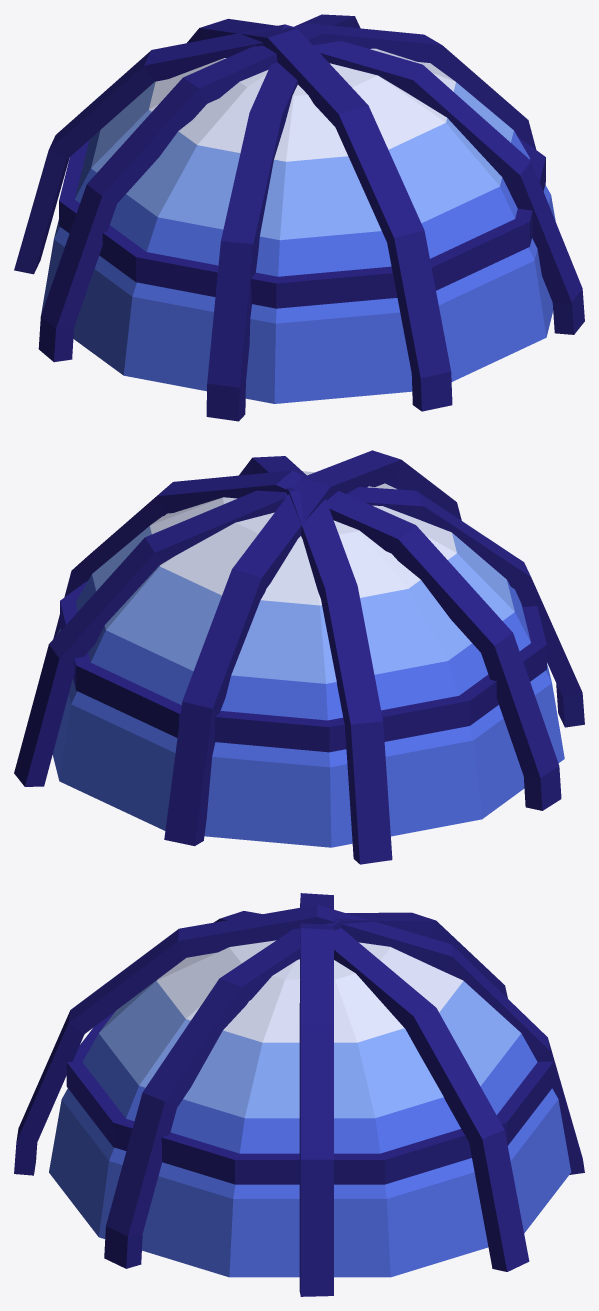
Rendered from Building_049_c.fbx.
3 renders of one model, top to bottom at view 1: azimuth 30°, elevation 25°; view 2: azimuth 150°, elevation 25°; view 3: azimuth 270°, elevation 25°, orthographic. The views are drawn at different scales.
Parts seen in each view (by area): view 1: Building_049_c; view 2: Building_049_c; view 3: Building_049_c.
Boxes of the visible parts, bbox=[...] form: Building_049_c: bbox=[14, 14, 584, 421]; Building_049_c: bbox=[14, 450, 584, 864]; Building_049_c: bbox=[14, 893, 584, 1296].
Size of the model in its own units: 3.77 by 1.94 by 3.77.
